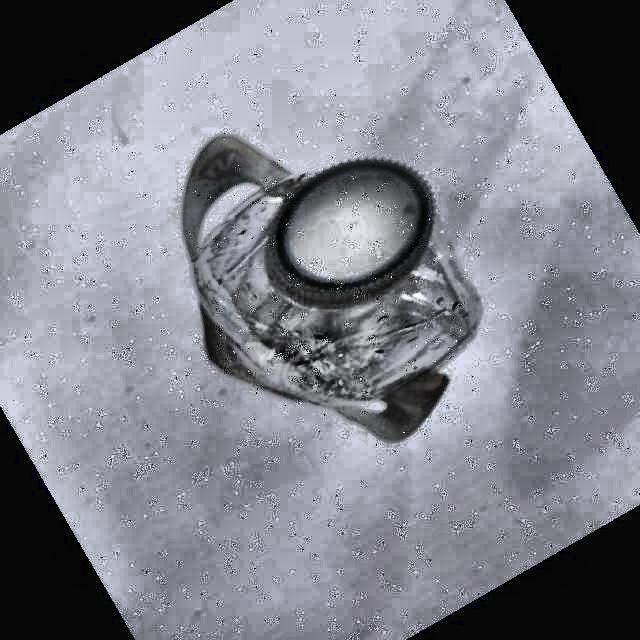plastic: (182, 135, 479, 439)
